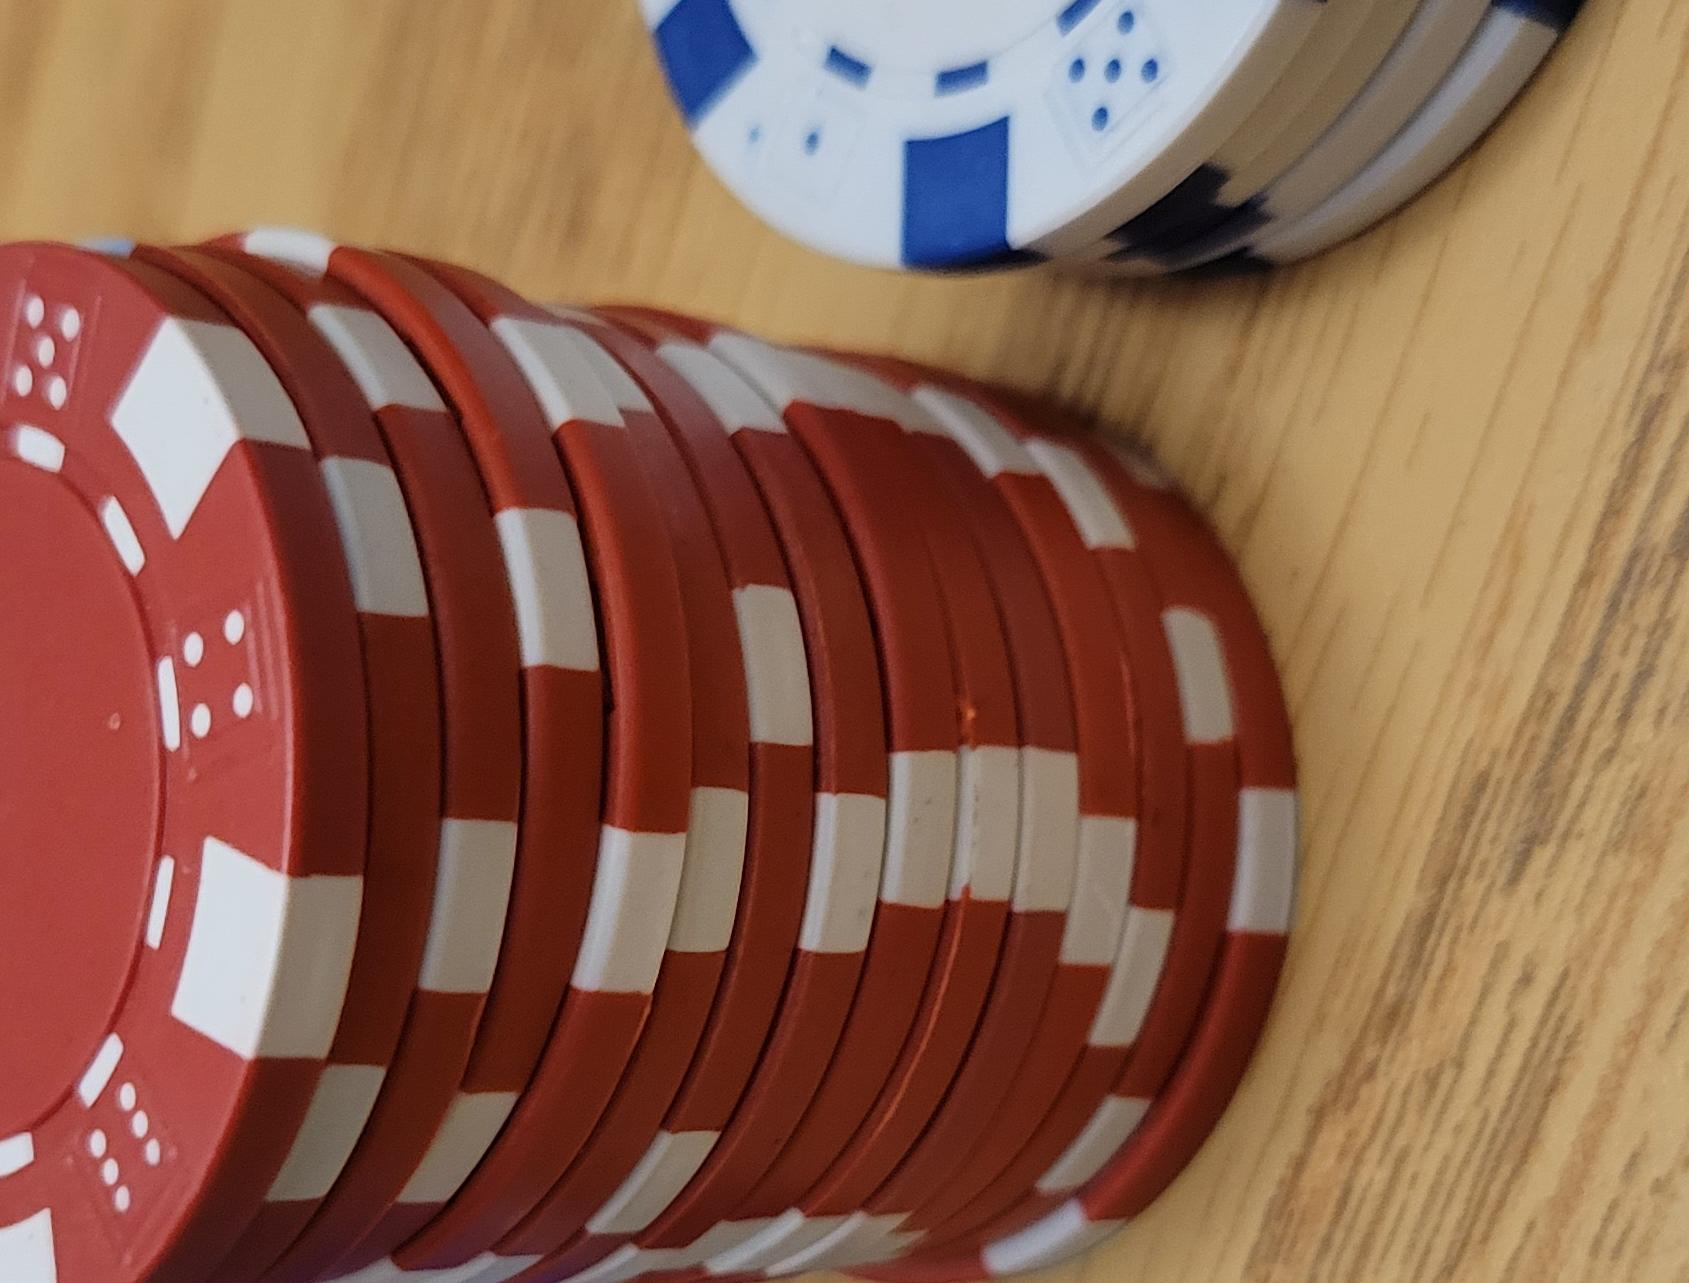Chip: (1, 218, 953, 1283)
